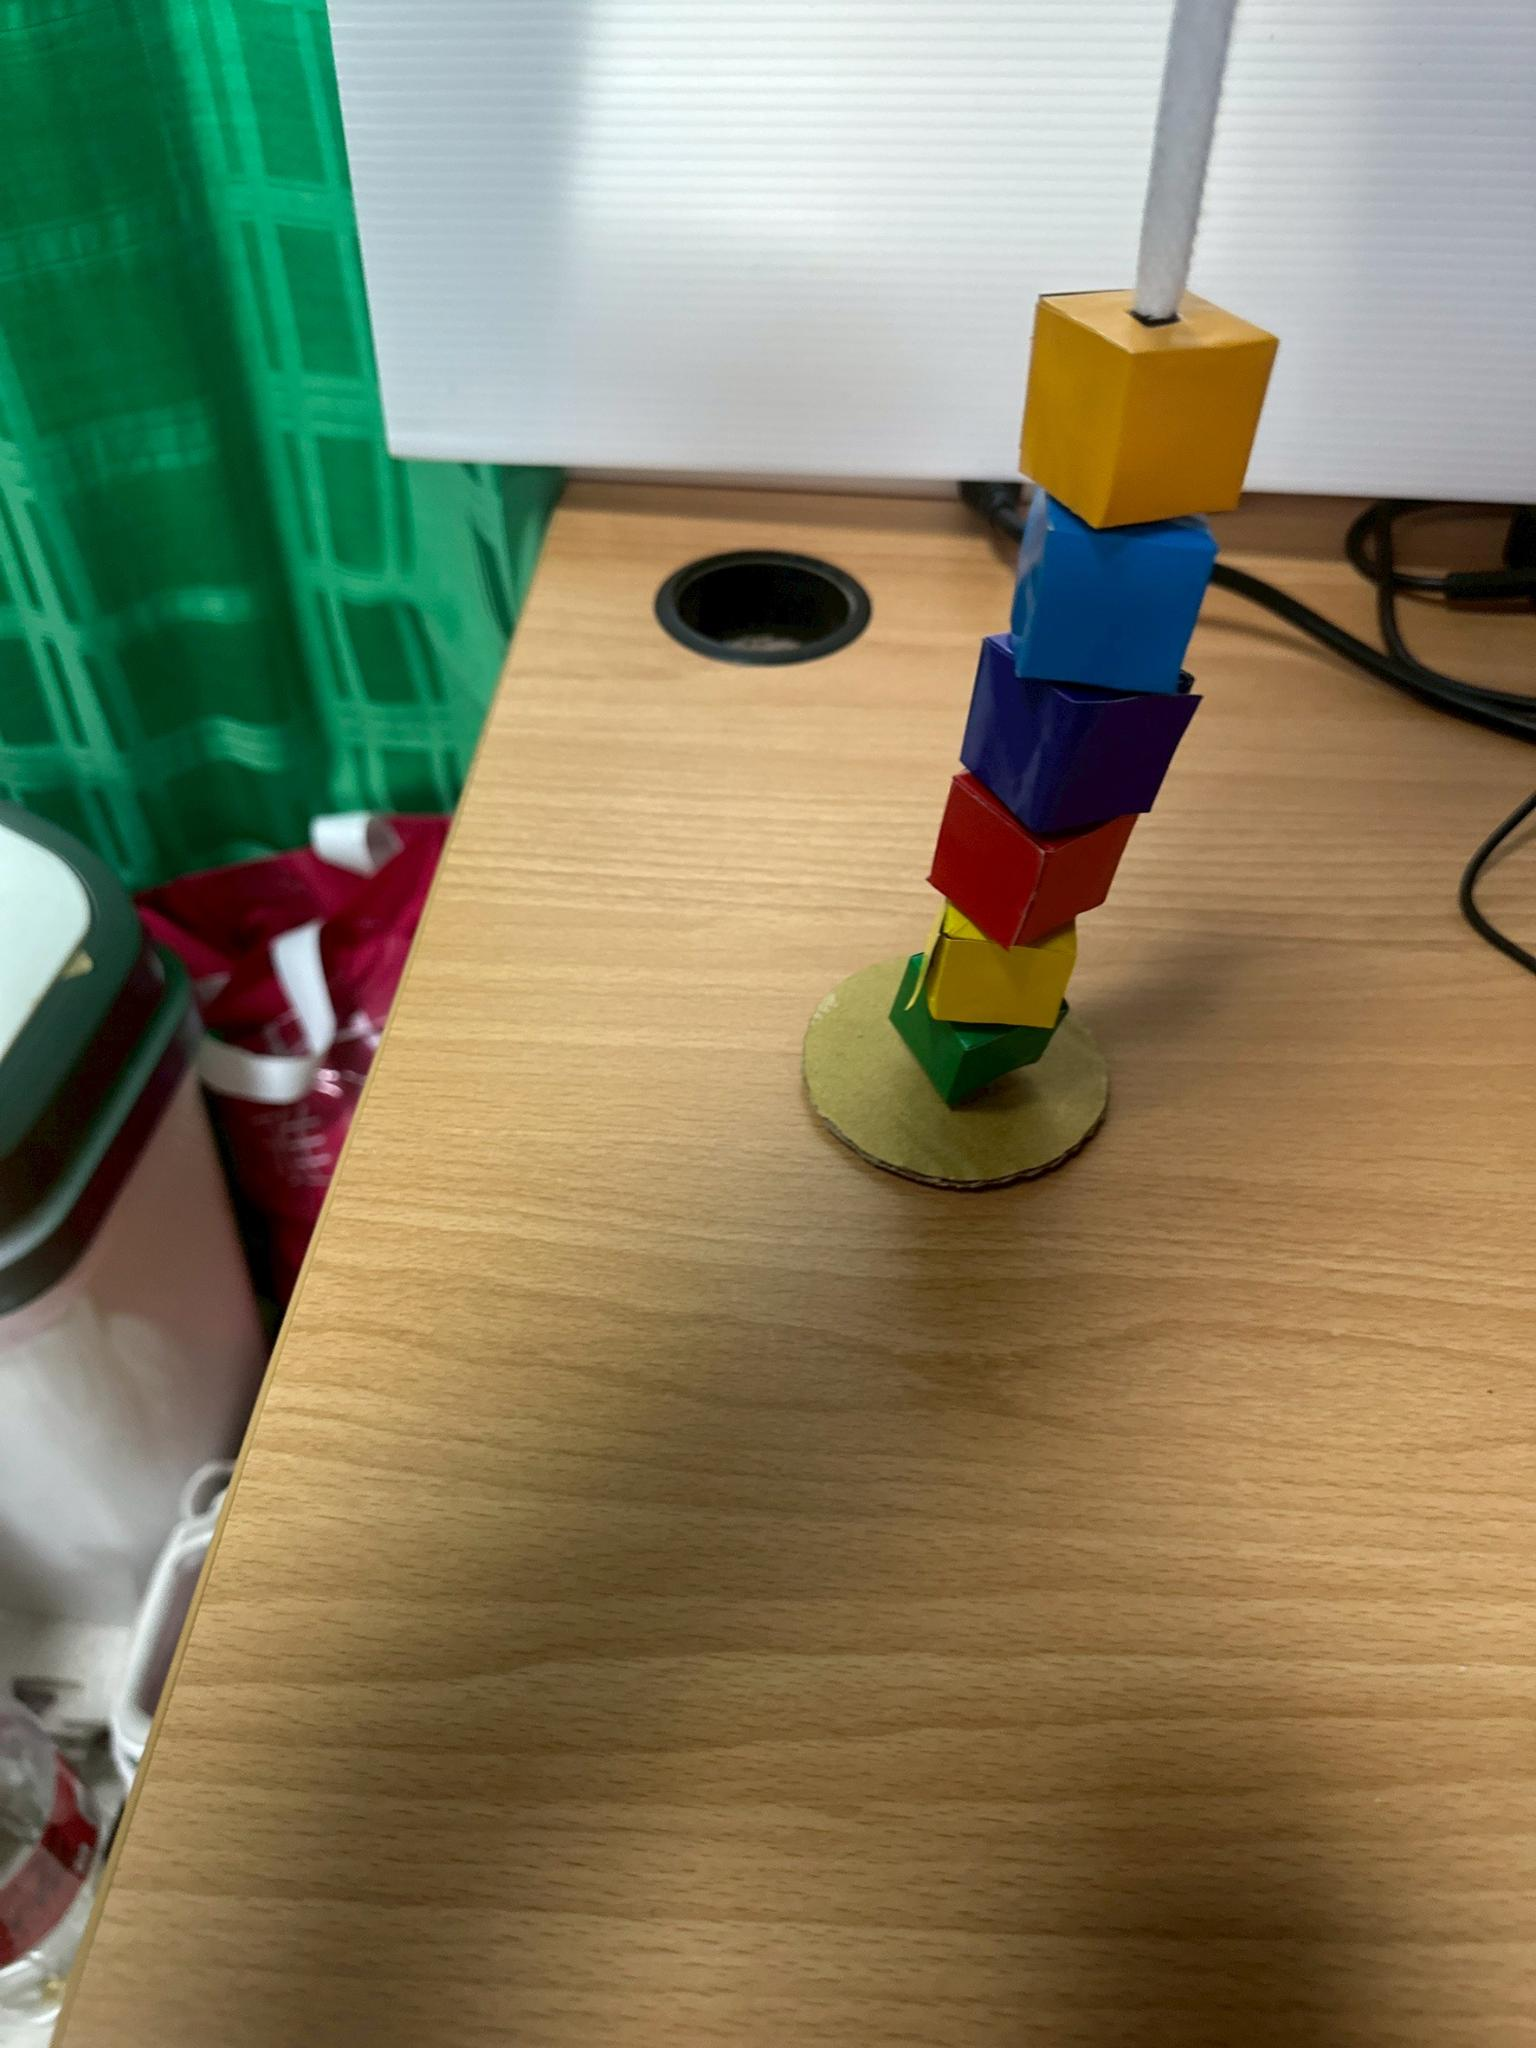base: (803, 961, 1108, 1188)
